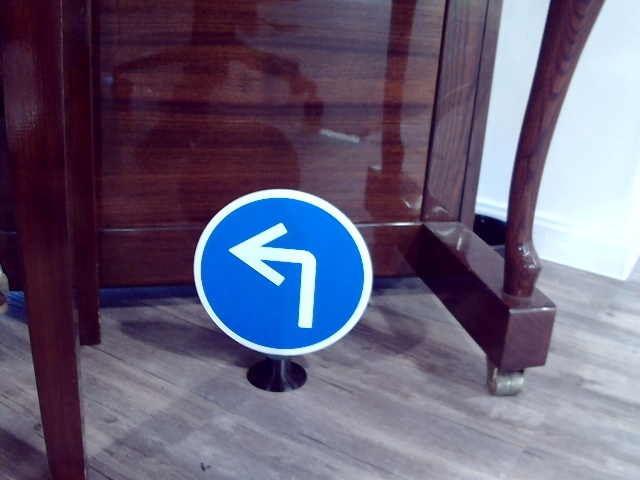turn_left: (228, 217, 329, 331)
